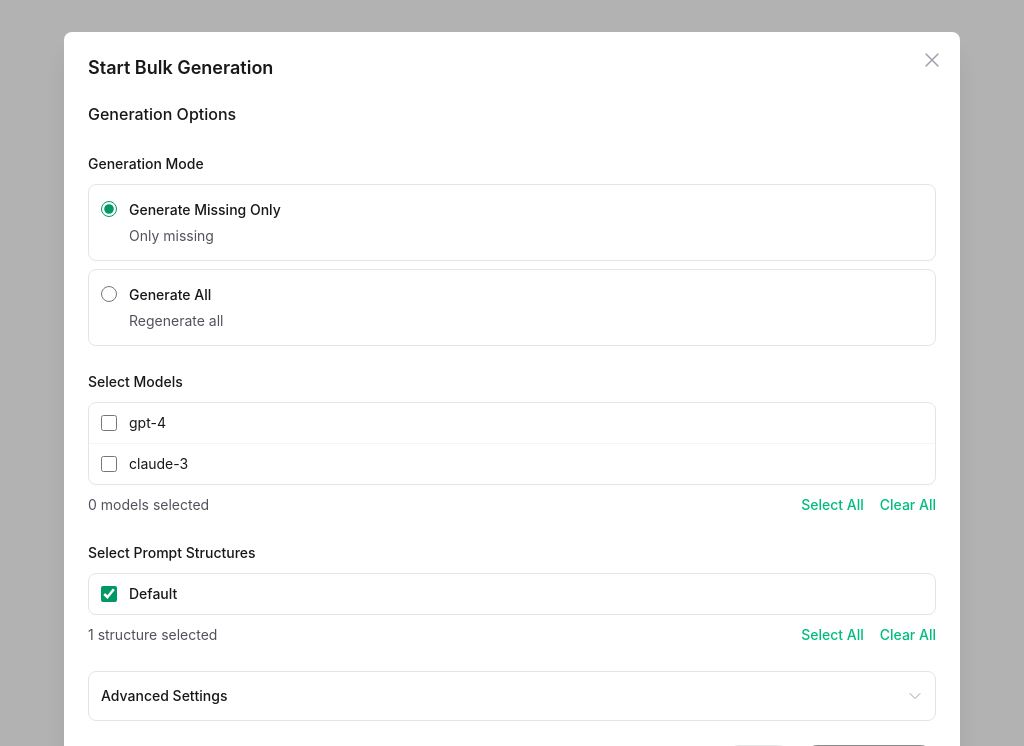
Test: GenerationControlModal branch coverage › handles select all and clear all for models
Note: Select All
Click the button "Select All" in the row of "0 models selected": (832,505) x1=801 y1=496 x2=864 y2=514
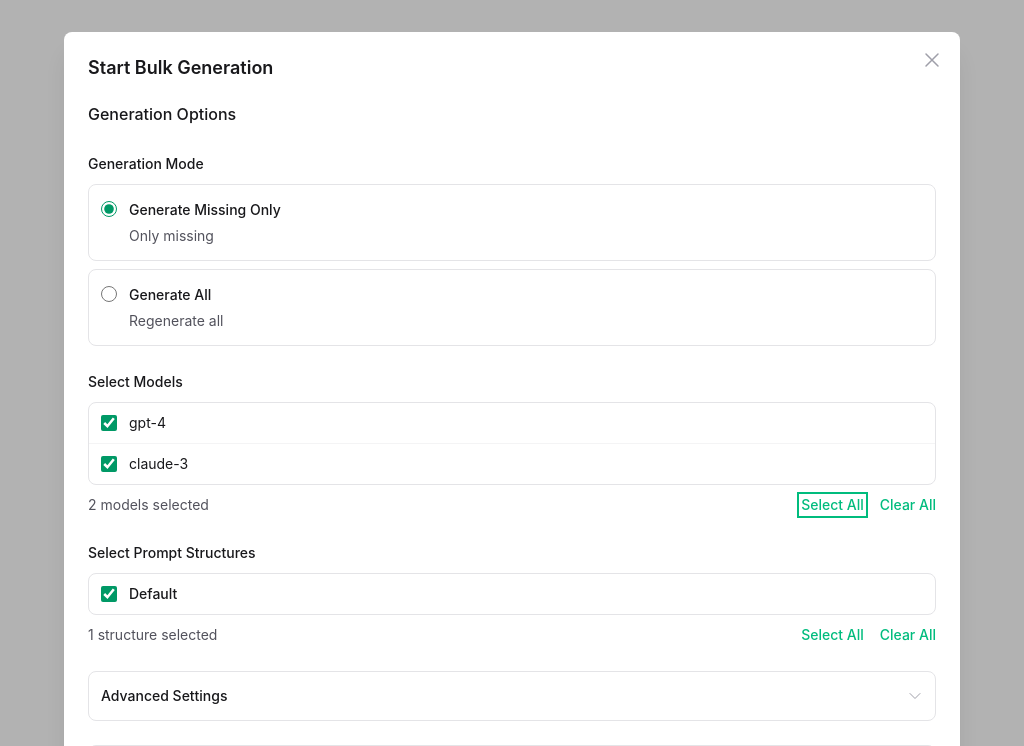
Check: the text "2 models selected" is shown, box x1=88 y1=493 x2=209 y2=517
Note: Clear All
Click the button "Clear All" in the row of "2 models selected": (908,505) x1=880 y1=496 x2=936 y2=514
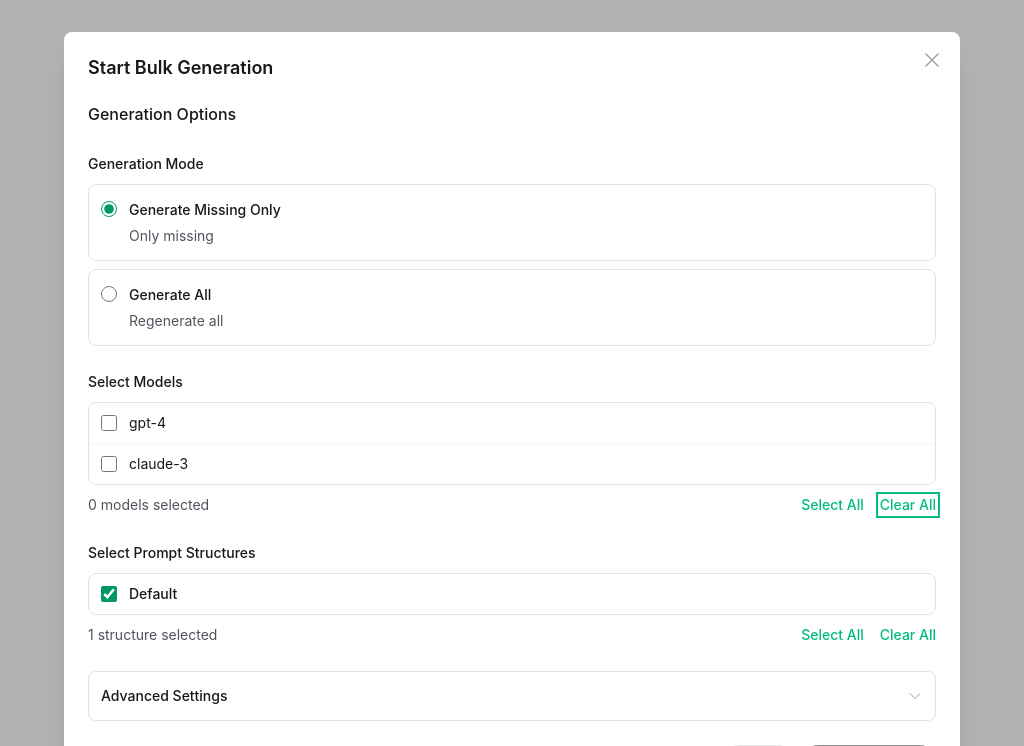
Check: the text "0 models selected" is shown, box x1=88 y1=493 x2=209 y2=517
